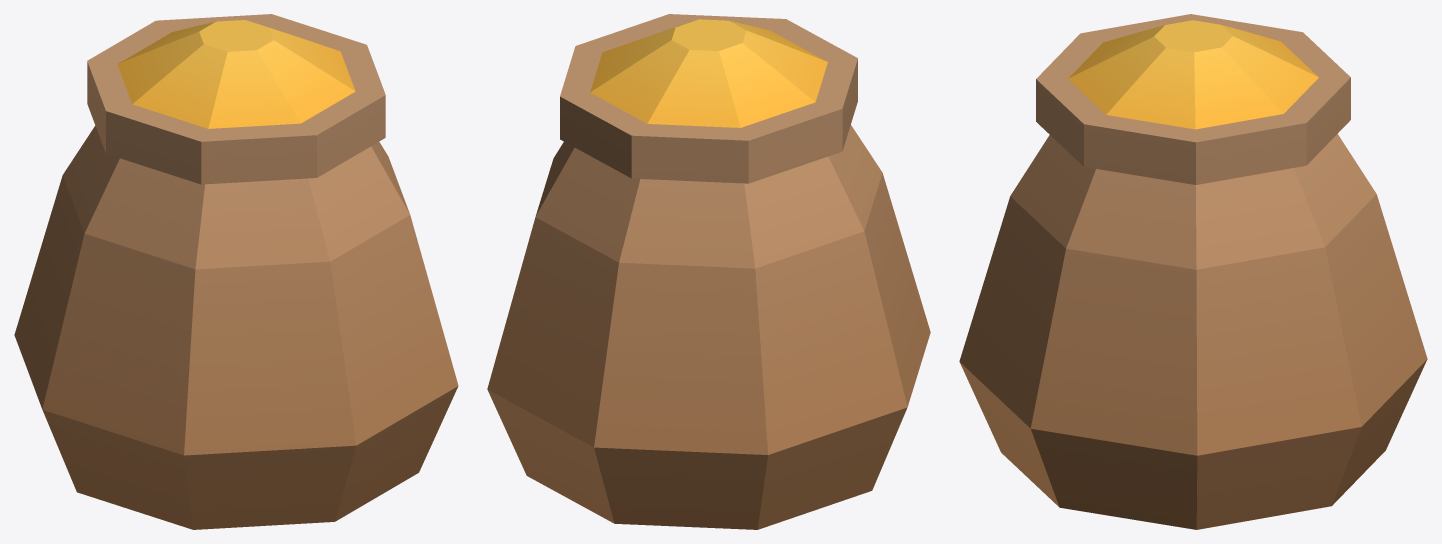
File: bag-grain-2.glb
3 views of the same model, side by side, from view 1: azimuth 30°, elevation 25°; view 2: azimuth 150°, elevation 25°; view 3: azimuth 270°, elevation 25° (orthographic).
Visible parts, largest first — view 1: bag grain 2; view 2: bag grain 2; view 3: bag grain 2.
Part boxes in pixels (x1,y1,x2,y2): bag grain 2: (14,14,458,529); bag grain 2: (487,14,930,529); bag grain 2: (959,14,1427,529).
Size of the model in its own units: 0.6619 by 0.732 by 0.6857.
Materials: 1 (1 with a texture image).
